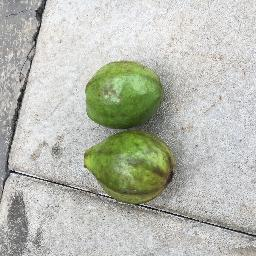Good_guava: (78, 129, 177, 206), (82, 57, 164, 128)
